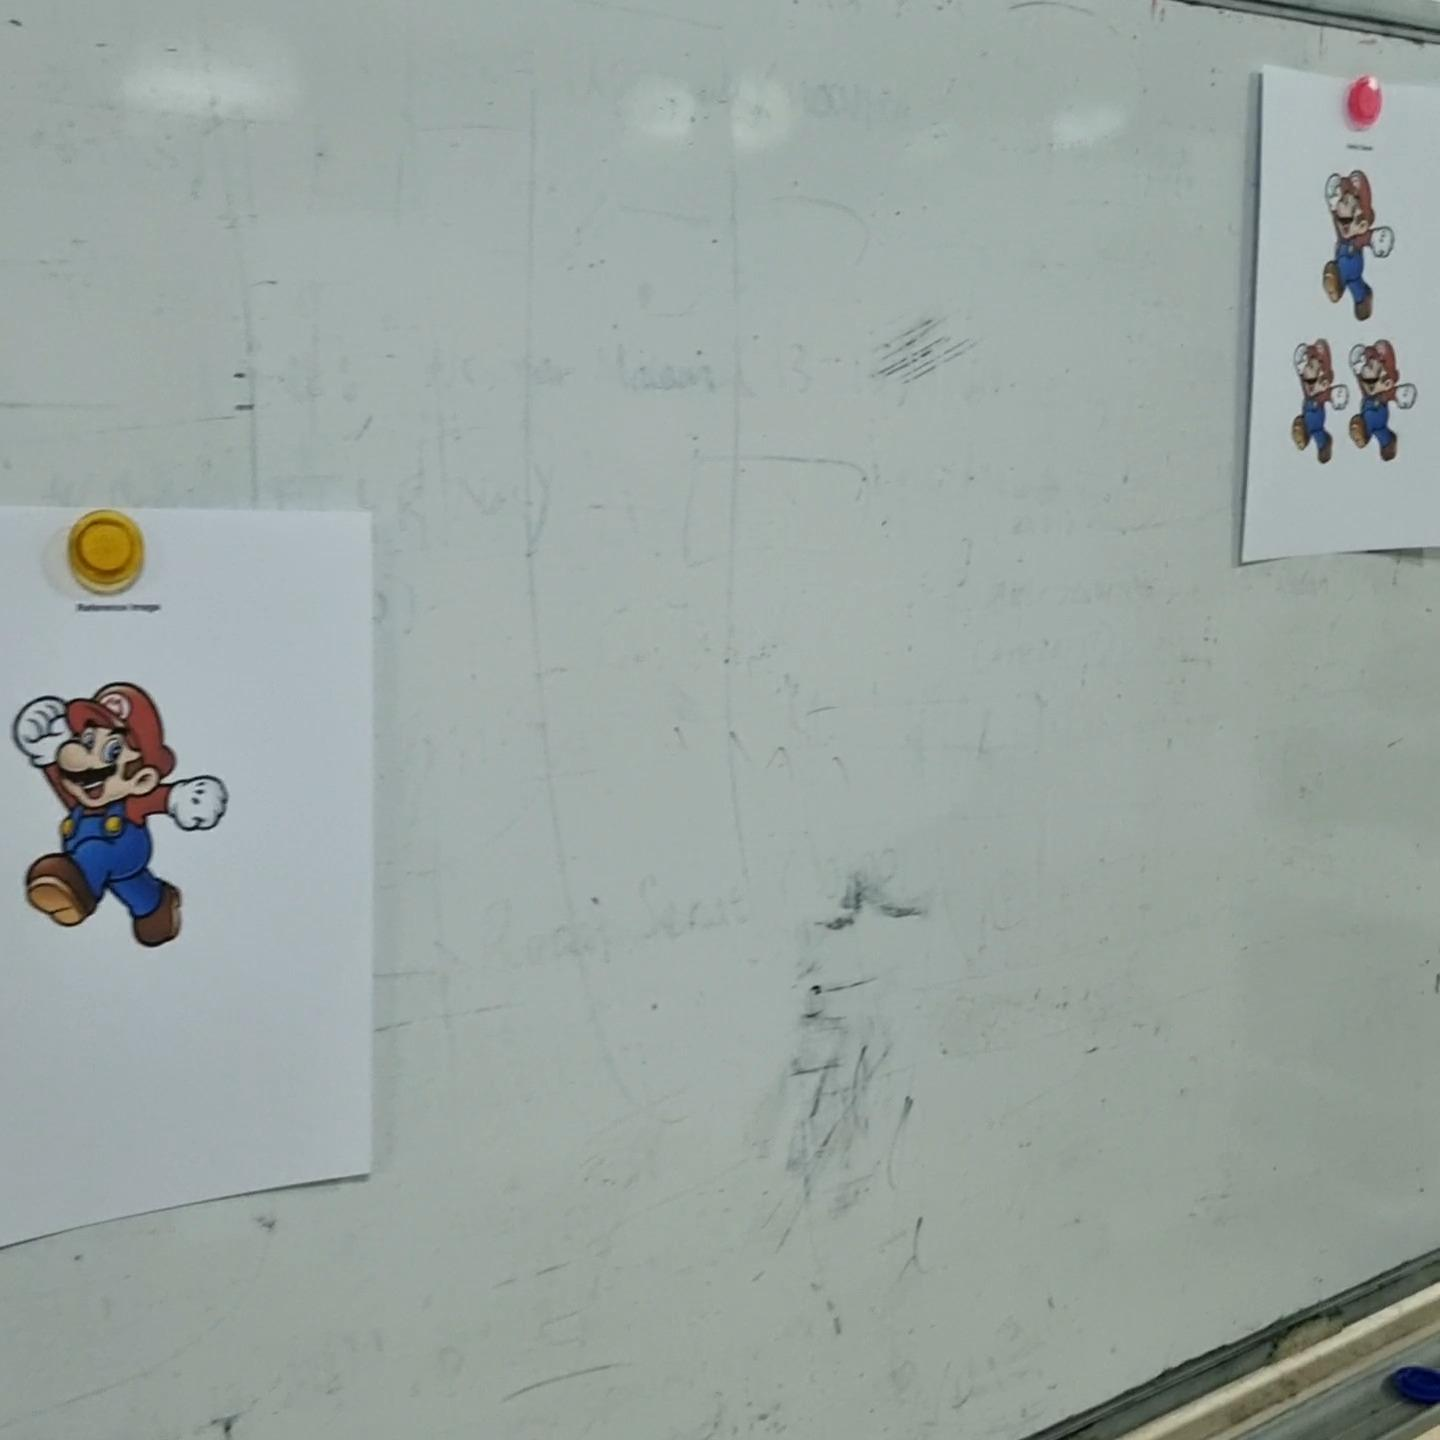mario: (4, 671, 236, 961), (1317, 157, 1400, 326), (1348, 334, 1420, 464), (1284, 334, 1350, 467)
